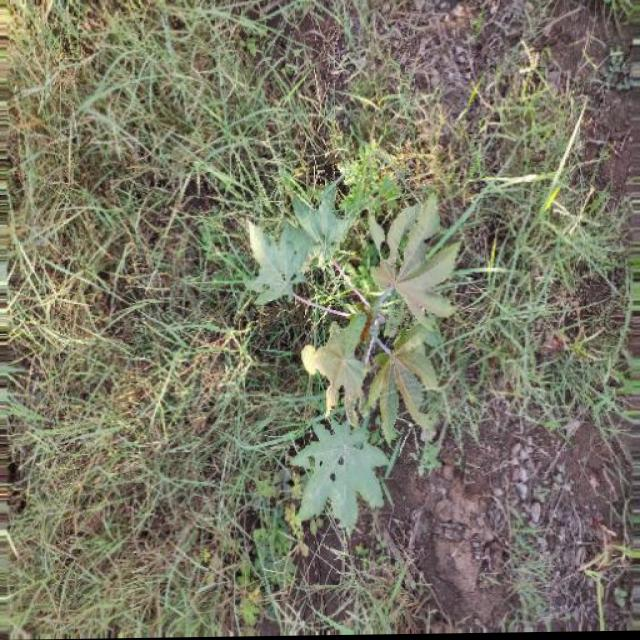weed: (58, 64, 612, 559)
